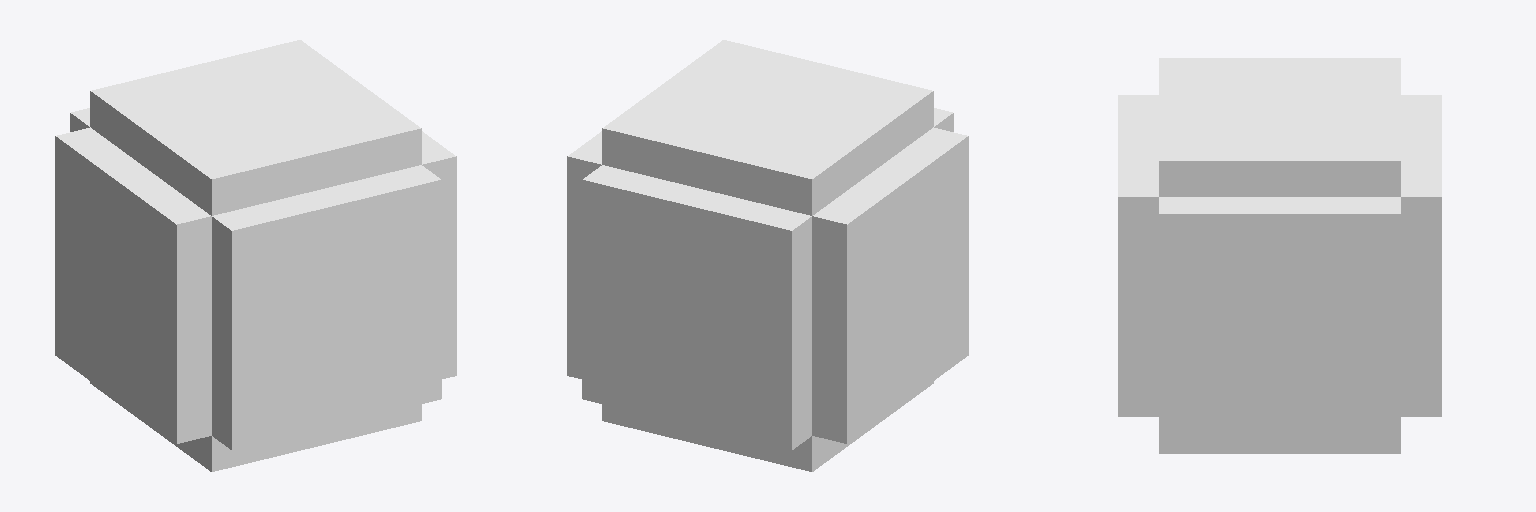
File: Coal01.obj
3 views of the same model, side by side, from view 1: azimuth 30°, elevation 25°; view 2: azimuth 150°, elevation 25°; view 3: azimuth 270°, elevation 25° (orthographic).
Visible parts, largest first — view 1: object 1; view 2: object 1; view 3: object 1.
Boxes of the visible parts, x1,y1,x2,y2 form: object 1: [55, 40, 456, 471]; object 1: [567, 40, 968, 471]; object 1: [1118, 58, 1441, 453].
Size of the model in its own units: 0.8 by 0.8 by 0.8.